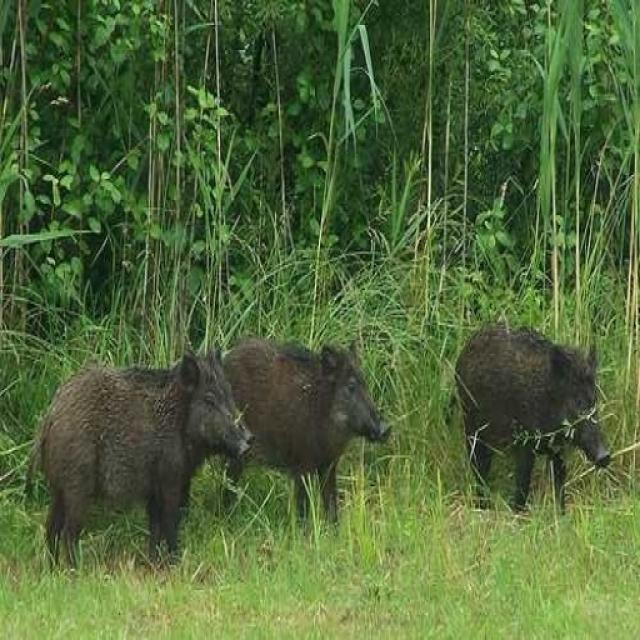pig: (43, 316, 254, 600), (392, 325, 630, 527), (222, 306, 365, 490)
